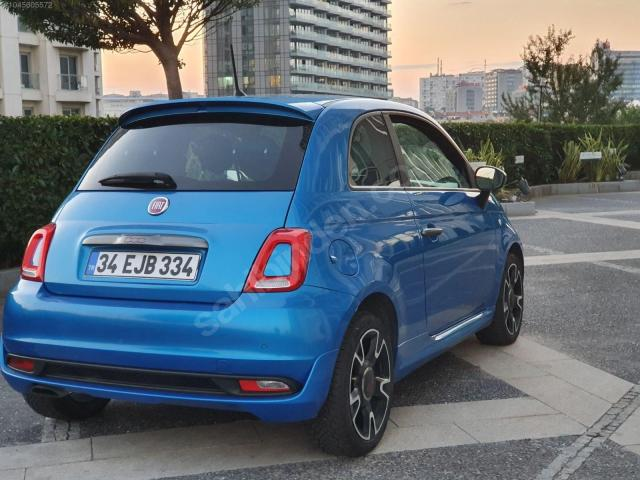plaka: (86, 250, 203, 281)
